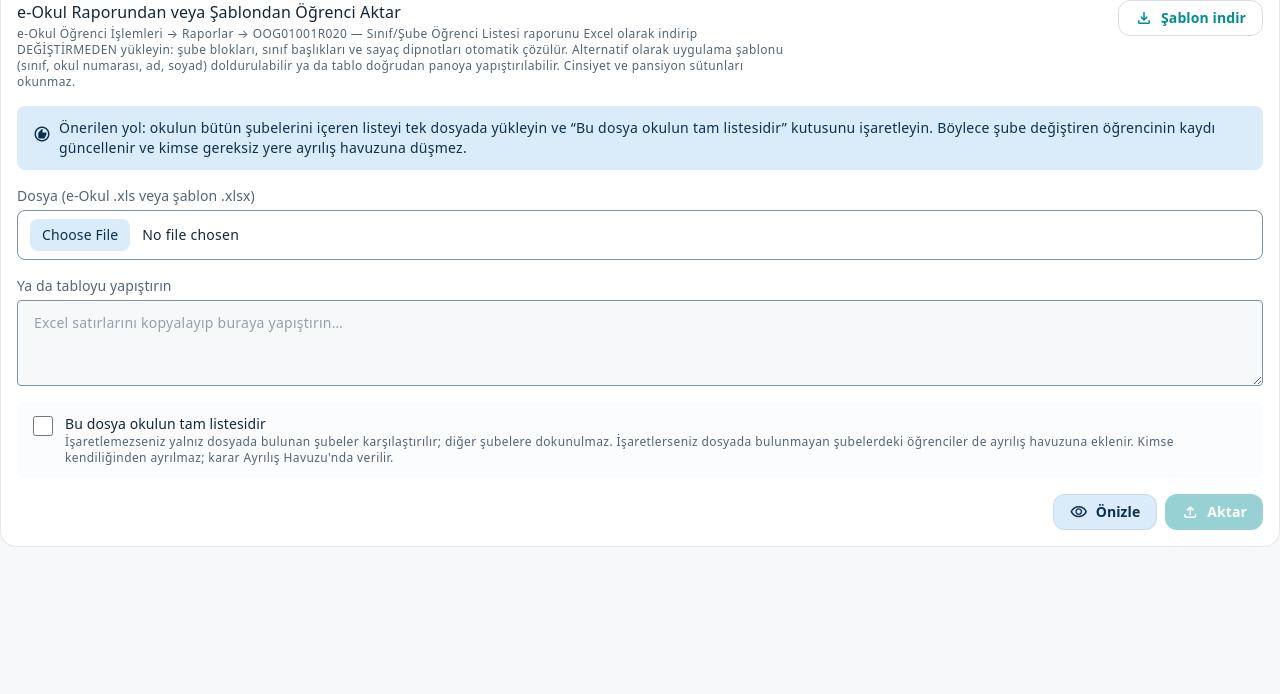
Test: AktarimPaneli — öğrenci mutabakatı ve ayrılış havuzu › aktarım kimseyi ayırmadığı için onay istemez; sonuç havuza bağlanır
In the text box labelled "Ya da tabloyu yapıştırın": [640, 343] box [17,300,1263,386], type "liste"
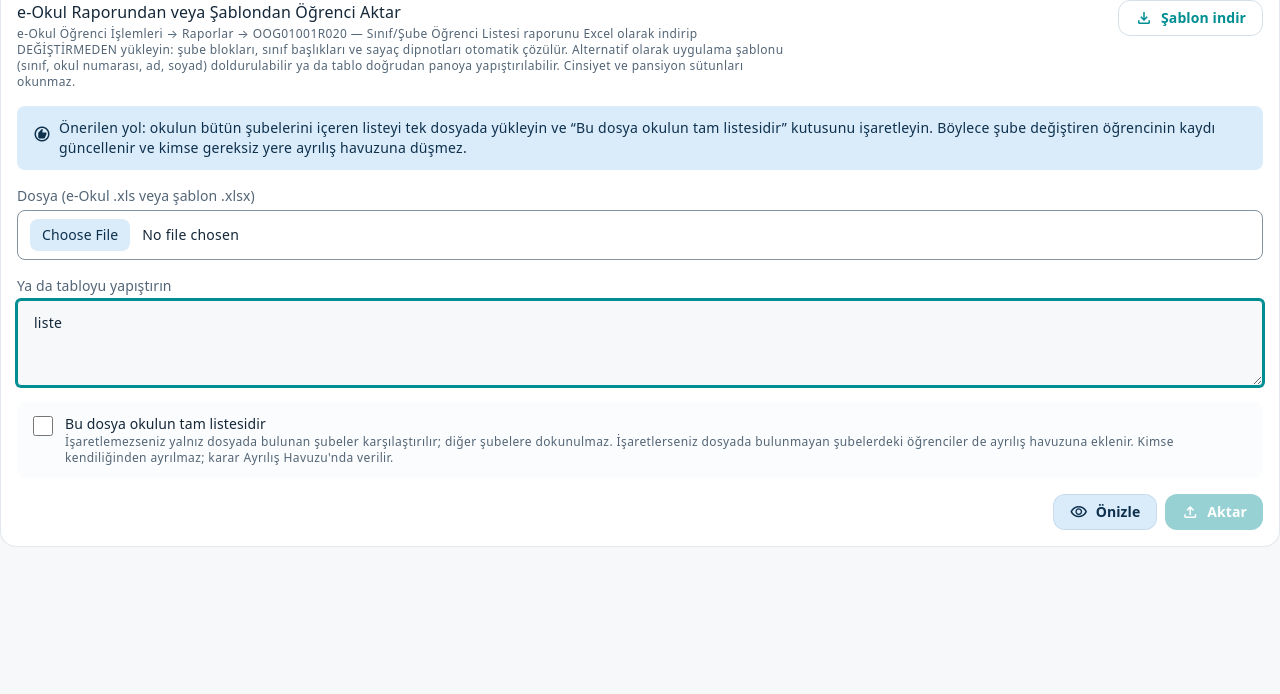
Click the button "Önizle": [1105, 512] box [1053,494,1157,530]
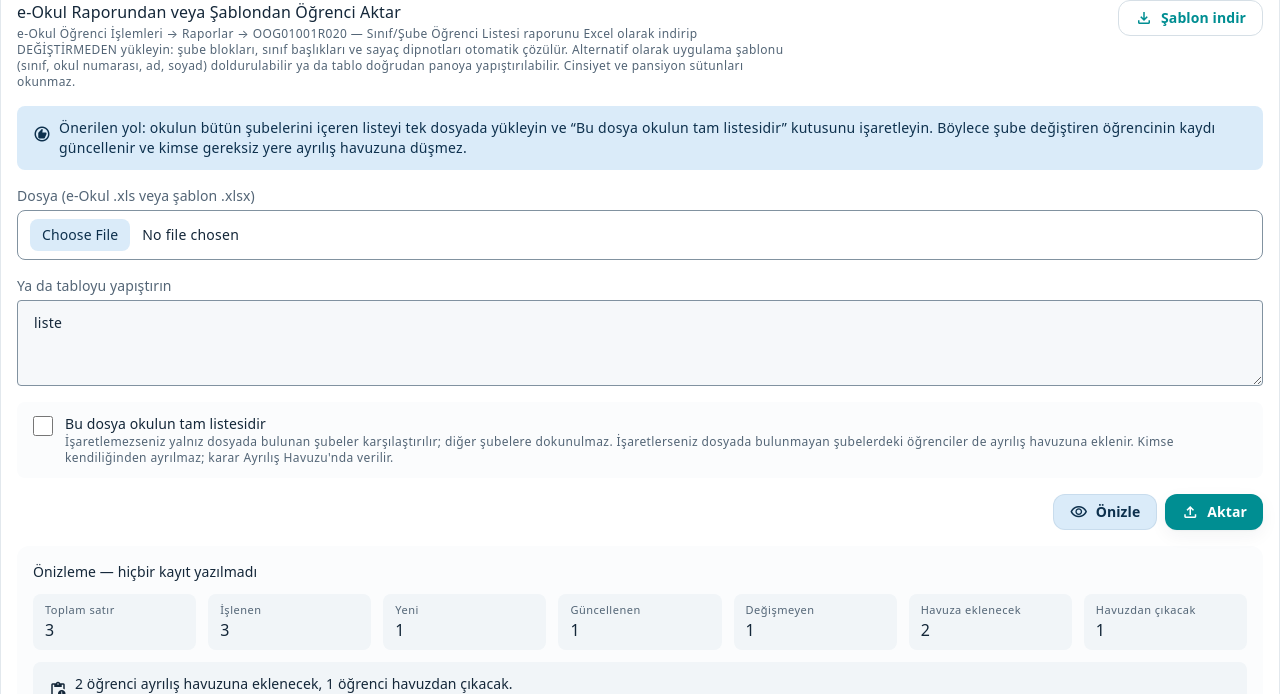
Check: the text "Önizleme — hiçbir kayıt yazılmadı" is shown, box [33,562,257,581]
Click the button "Aktar": [1214, 512] box [1165,494,1263,530]
(page scrolled)
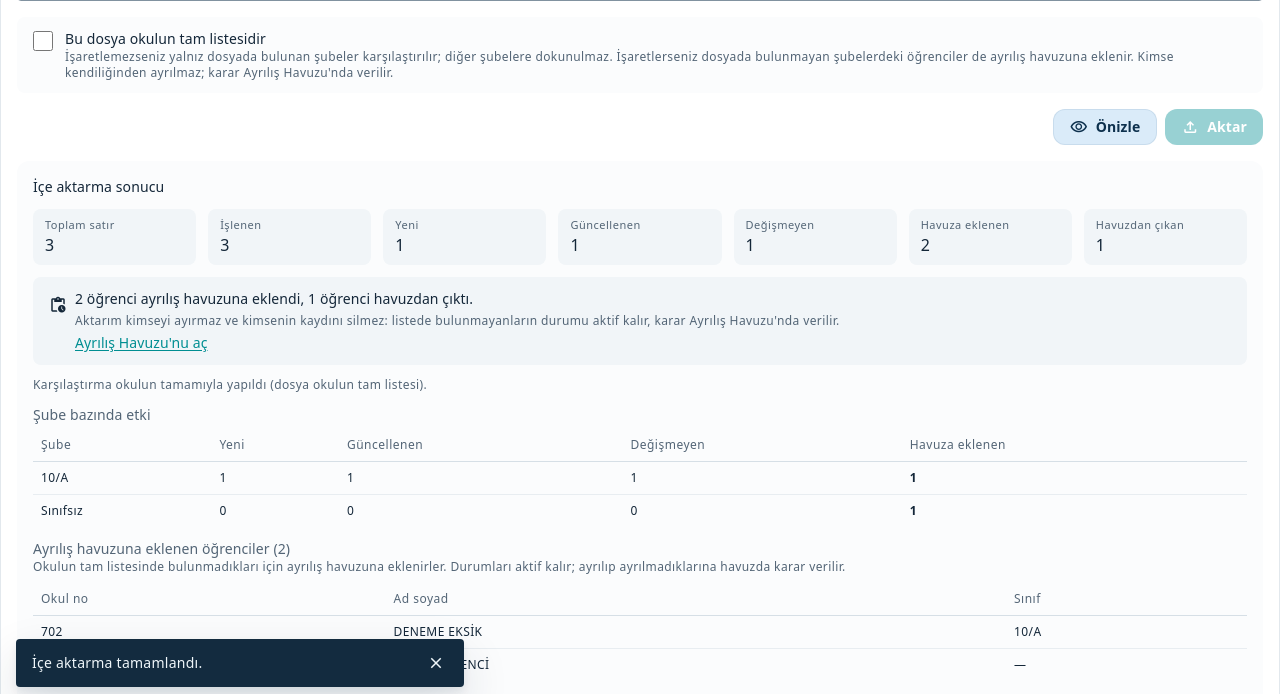
Check: the text "Ayrılış havuzuna eklenen öğrenciler (2)" is shown, box [33,539,290,558]
Check: the text "2 öğrenci ayrılış havuzuna eklendi, 1 öğrenci havuzdan çıktı." is shown, box [75,289,473,308]
